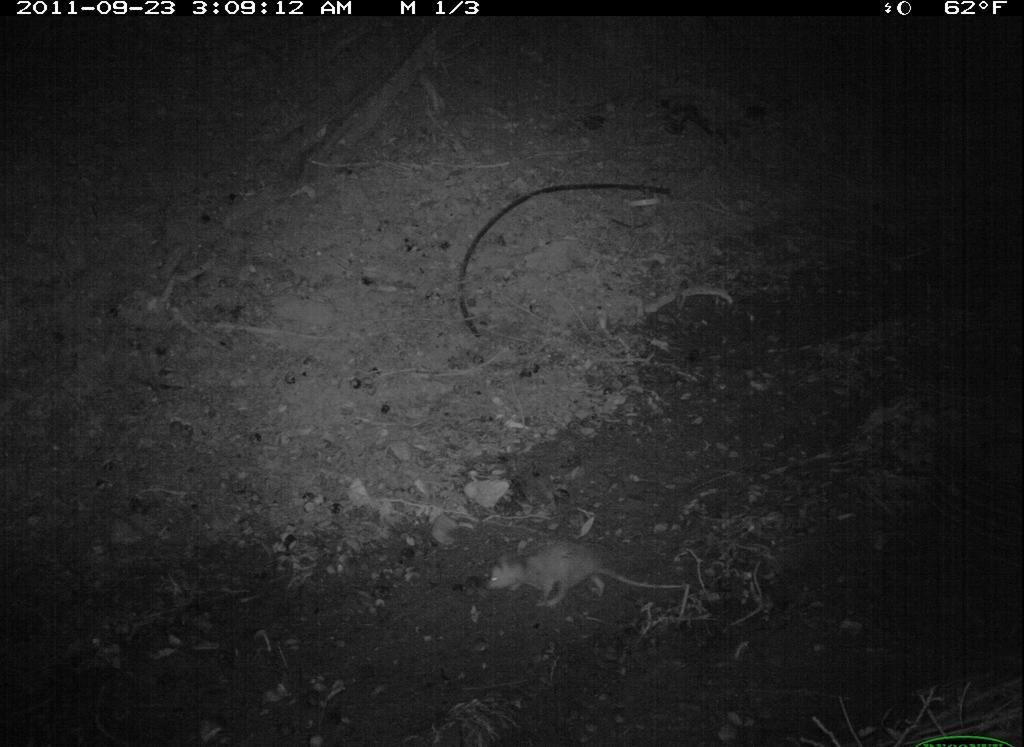opossum: (470, 536, 652, 582)
